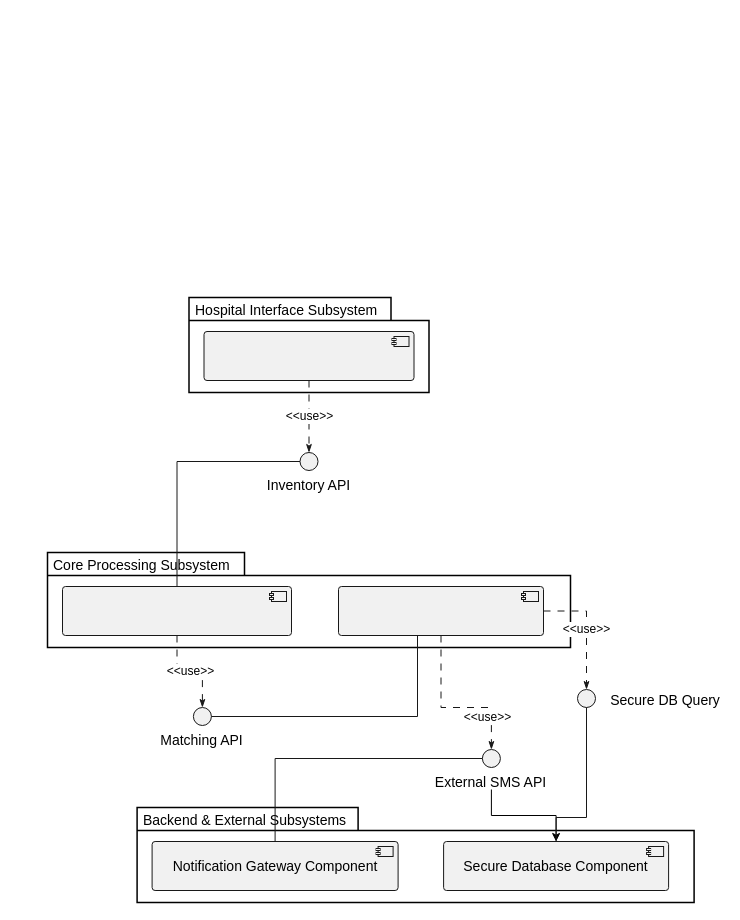
This 740x920 diagram has some shape labels left out. Here are the shapes that lost their labels. From the top down, the centre of each, then its label:
[308,355]: Request Intake Component
[177,611]: Inventory Ledger Component
[441,611]: Geo-Matching Component
